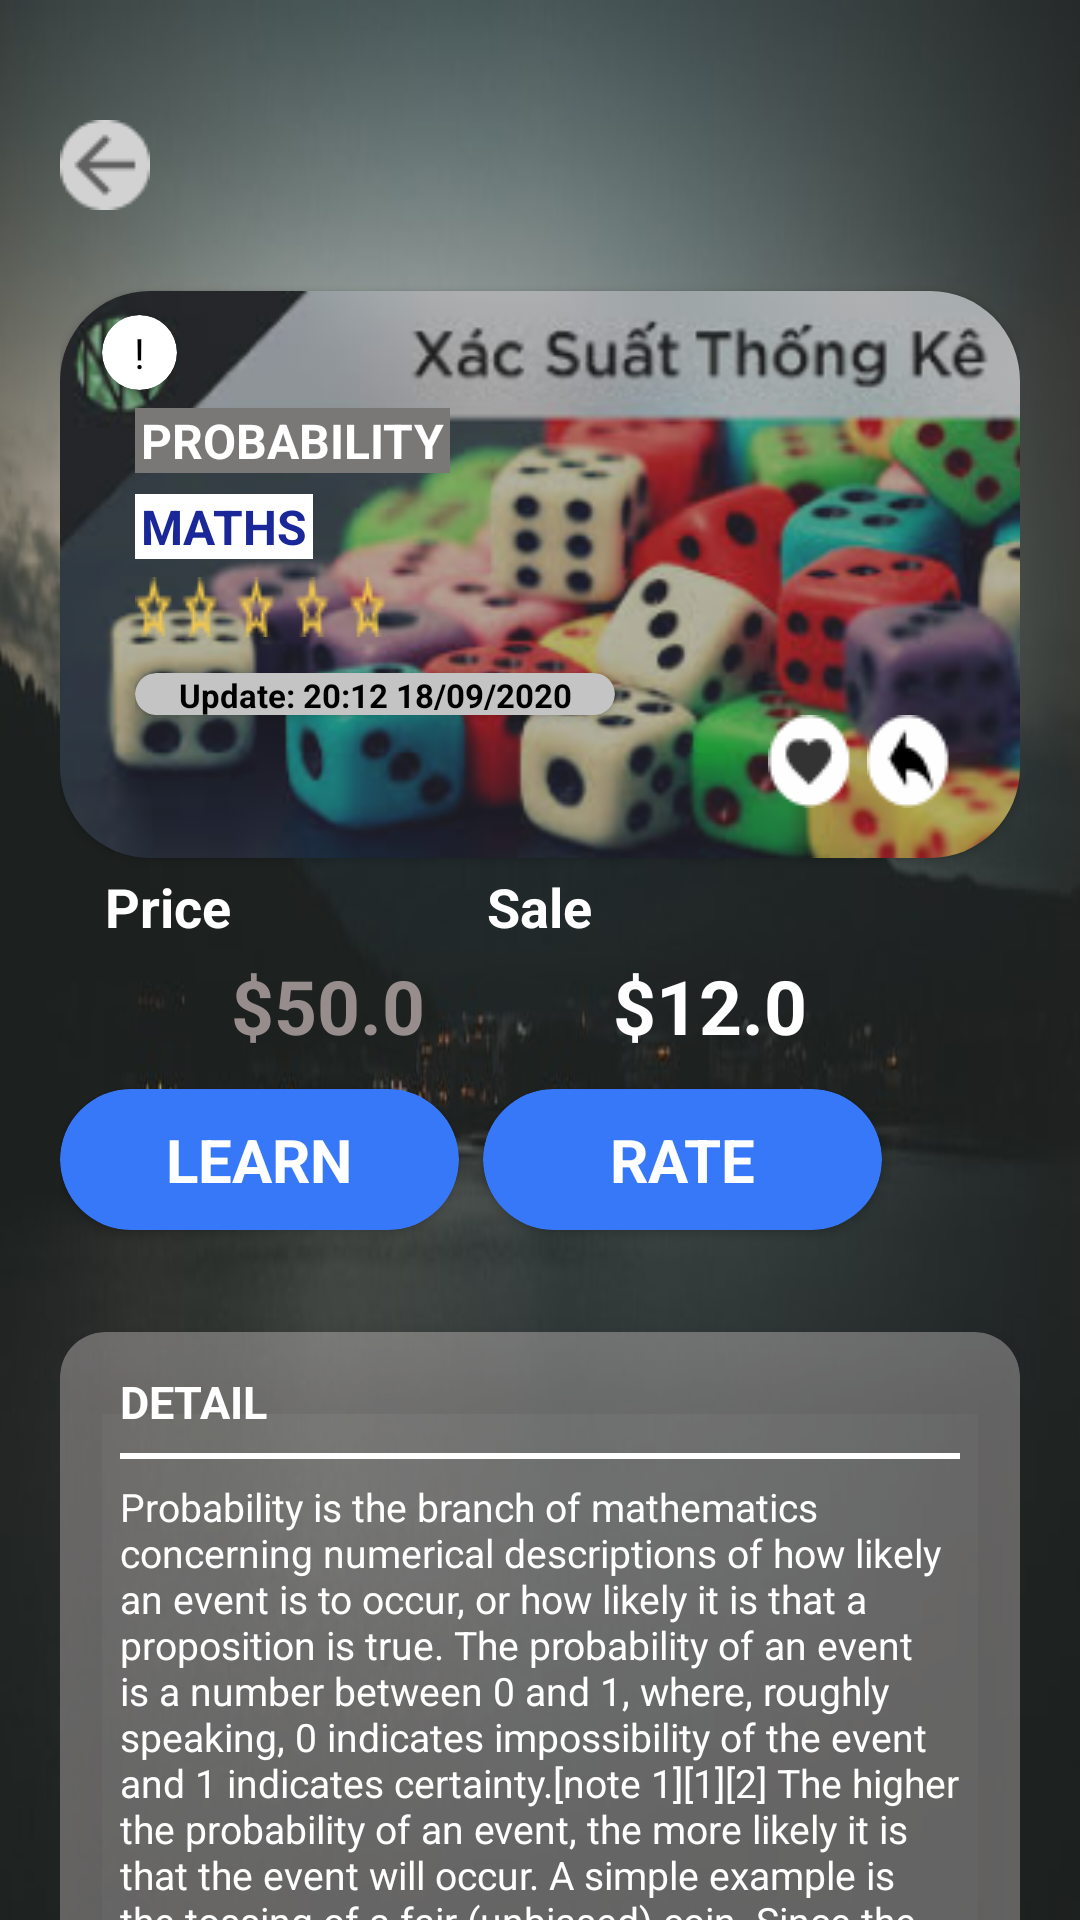

Point at icon controls on the screen. Image size 1080 × 1920, points as (x,y).
back: (105,165)
love: (810,761)
share: (909,761)
